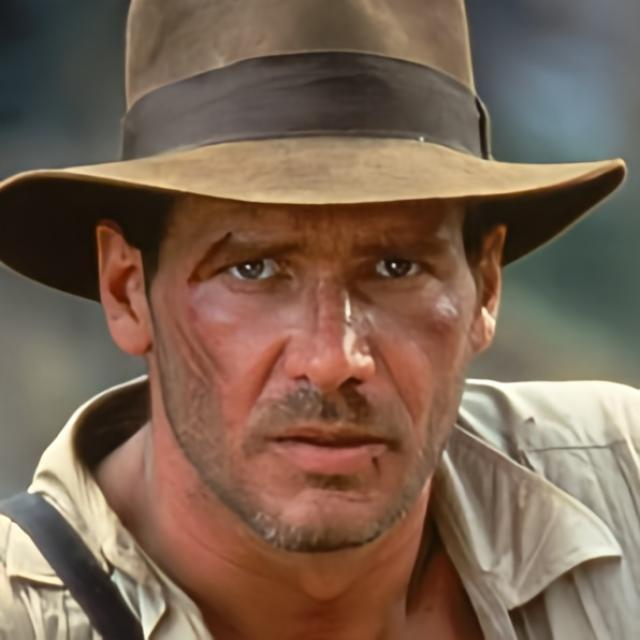anger: (154, 162, 472, 549)
